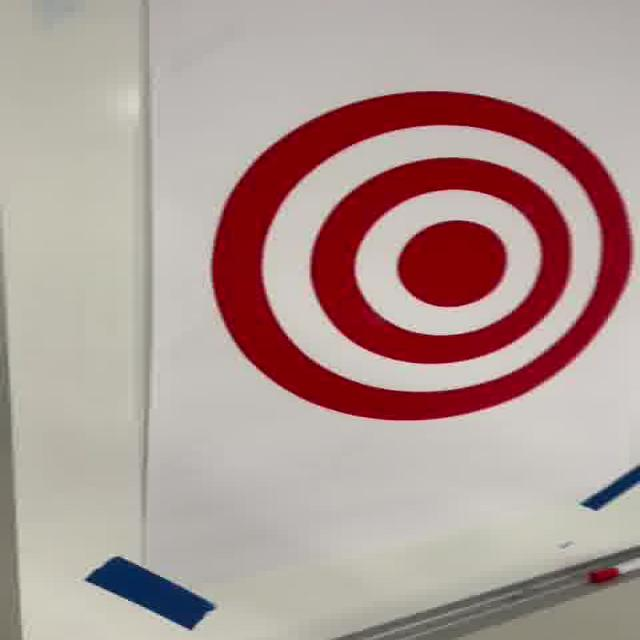target_red: (215, 90, 633, 418)
